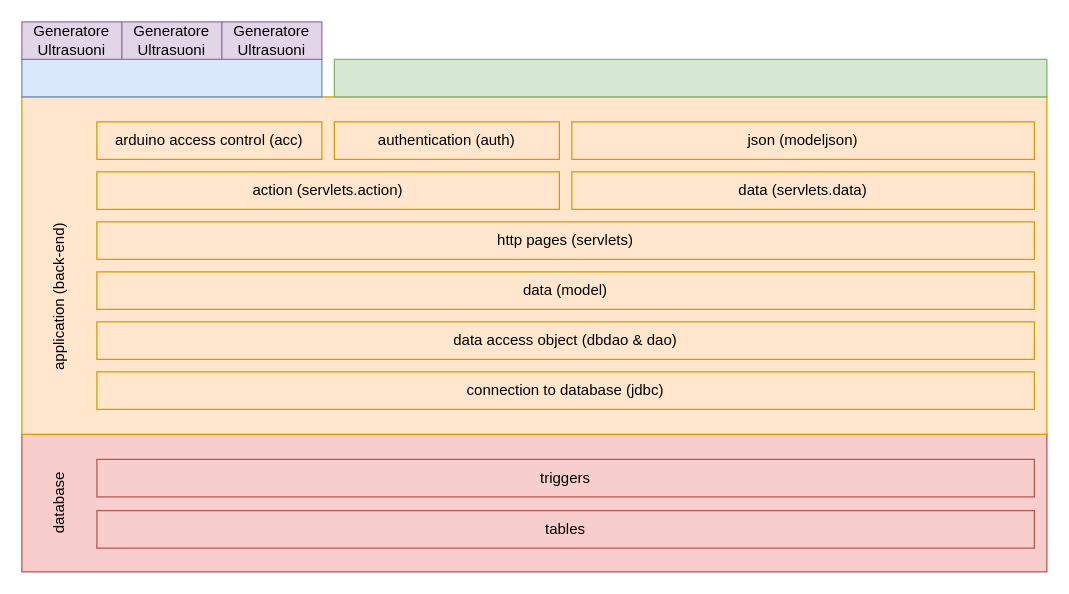
The diagram is 1069 pixels wide and 594 high, and some of its shapes have lost their labels. The shapes that lost their labels are listed below. From the top down, each one's centre as x and y in pixels, then its label:
the point at 171,77: acc client (arduino)
the point at 690,77: application (front-end)
